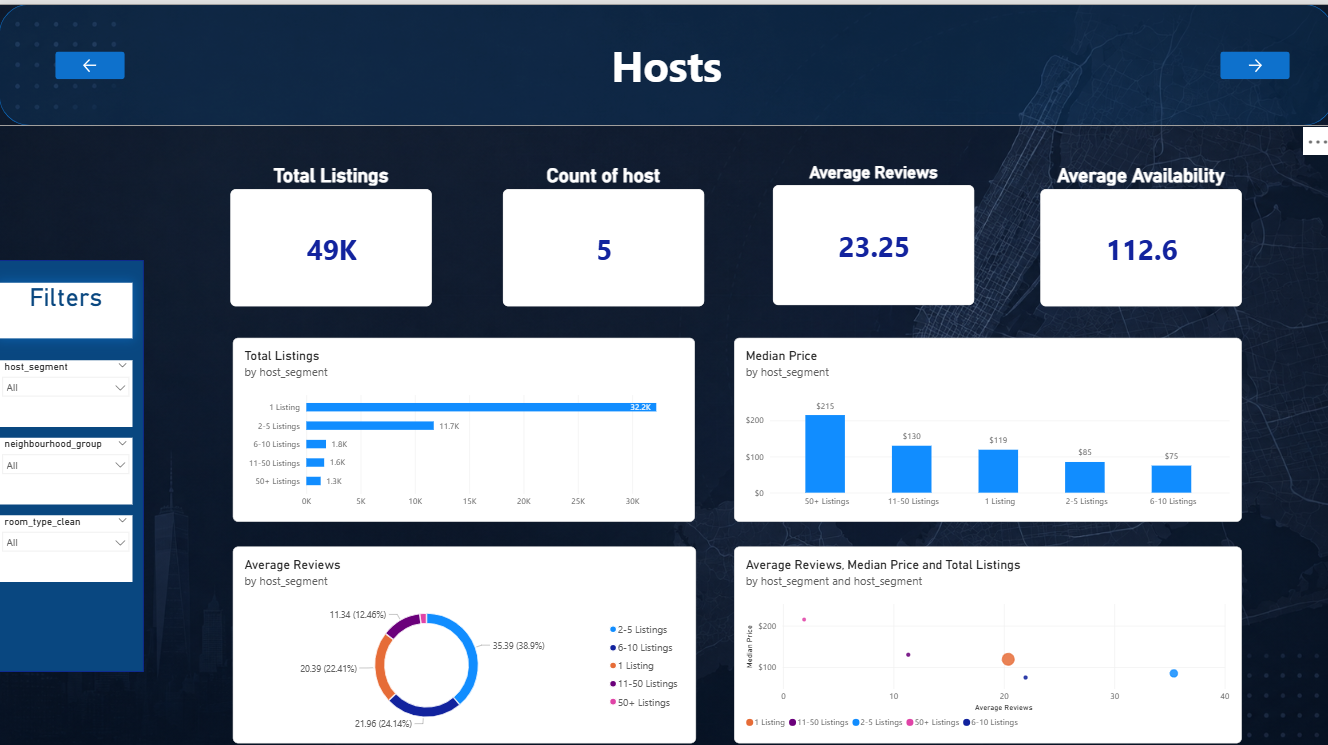

This screenshot's page, from the dashboard's own definition file:
{"tool":"powerbi","page":{"name":"Hosts","canvas":[1920,1080],"ordinal":3},"visuals":[{"type":"image","box":[0,0,1920,1079.6],"z":0},{"type":"shape","box":[0,368,208,592],"z":1000},{"type":"shape","box":[0,0,1920,175],"z":2000},{"type":"slicer","fields":{"Values":["NYC_Airbnb_Cleaned.neighbourhood_group"]},"box":[0,624,192,96],"z":3000},{"type":"slicer","fields":{"Values":["NYC_Airbnb_Cleaned.room_type_clean"]},"box":[0,736,192,96],"z":4000},{"type":"slicer","fields":{"Values":["NYC_Airbnb_Cleaned.host_segment"]},"box":[0,512,192,96],"z":5000},{"type":"cardVisual","title":"Average Reviews","fields":{"Data":["NYC_Airbnb_Cleaned.Average Reviews"]},"box":[1113.3,228.3,290,206],"z":6000},{"type":"cardVisual","title":"Count of host","fields":{"Data":["Count(NYC_Airbnb_Cleaned.host_segment)"]},"box":[725,230,290,206],"z":7000},{"type":"cardVisual","title":"Total Listings","fields":{"Data":["NYC_Airbnb_Cleaned.Total Listings"]},"box":[333.3,230,290,206],"z":8000},{"type":"cardVisual","title":"Average Availability","fields":{"Data":["NYC_Airbnb_Cleaned.Average Availability"]},"box":[1496.7,230,290,206],"z":9000},{"type":"barChart","fields":{"Category":["NYC_Airbnb_Cleaned.host_segment"],"Y":["NYC_Airbnb_Cleaned.Total Listings"]},"box":[336.7,480,665,265],"z":10000},{"type":"columnChart","fields":{"Category":["NYC_Airbnb_Cleaned.host_segment"],"Y":["NYC_Airbnb_Cleaned.Median Price"]},"box":[1056.7,480,730,265],"z":11000},{"type":"donutChart","fields":{"Category":["NYC_Airbnb_Cleaned.host_segment"],"Y":["NYC_Airbnb_Cleaned.Average Reviews"]},"box":[336.7,780,666.7,283.3],"z":12000},{"type":"scatterChart","fields":{"Category":["NYC_Airbnb_Cleaned.host_segment"],"Series":["NYC_Airbnb_Cleaned.host_segment"],"Size":["NYC_Airbnb_Cleaned.Total Listings"],"X":["NYC_Airbnb_Cleaned.Average Reviews"],"Y":["NYC_Airbnb_Cleaned.Median Price"]},"box":[1056.7,780,730,283.3],"z":13000},{"type":"actionButton","box":[81.3,69.1,100,40],"z":14000},{"type":"actionButton","box":[1755.8,69.1,100,40],"z":15000},{"type":"textbox","title":"Filters","box":[0,400,192,80],"z":16000}]}

Visuals, with their boxes in screenshot pixels (x1, y1, x2, y2), scaled from the page's 1920x1080 canvas onto the 1328x745 screenshot:
image: <box>0,0,1327,744</box>
shape: <box>0,254,144,662</box>
shape: <box>0,0,1327,121</box>
slicer - NYC_Airbnb_Cleaned.neighbourhood_group: <box>0,430,133,497</box>
slicer - NYC_Airbnb_Cleaned.room_type_clean: <box>0,508,133,574</box>
slicer - NYC_Airbnb_Cleaned.host_segment: <box>0,353,133,419</box>
"Average Reviews" cardVisual: <box>770,157,971,300</box>
"Count of host" cardVisual: <box>501,159,702,301</box>
"Total Listings" cardVisual: <box>231,159,431,301</box>
"Average Availability" cardVisual: <box>1035,159,1236,301</box>
barChart - NYC_Airbnb_Cleaned.host_segment x NYC_Airbnb_Cleaned.Total Listings: <box>233,331,693,514</box>
columnChart - NYC_Airbnb_Cleaned.host_segment x NYC_Airbnb_Cleaned.Median Price: <box>731,331,1236,514</box>
donutChart - NYC_Airbnb_Cleaned.host_segment x NYC_Airbnb_Cleaned.Average Reviews: <box>233,538,694,733</box>
scatterChart - NYC_Airbnb_Cleaned.host_segment x NYC_Airbnb_Cleaned.host_segment: <box>731,538,1236,733</box>
actionButton: <box>56,48,125,75</box>
actionButton: <box>1214,48,1284,75</box>
"Filters" textbox: <box>0,276,133,331</box>
